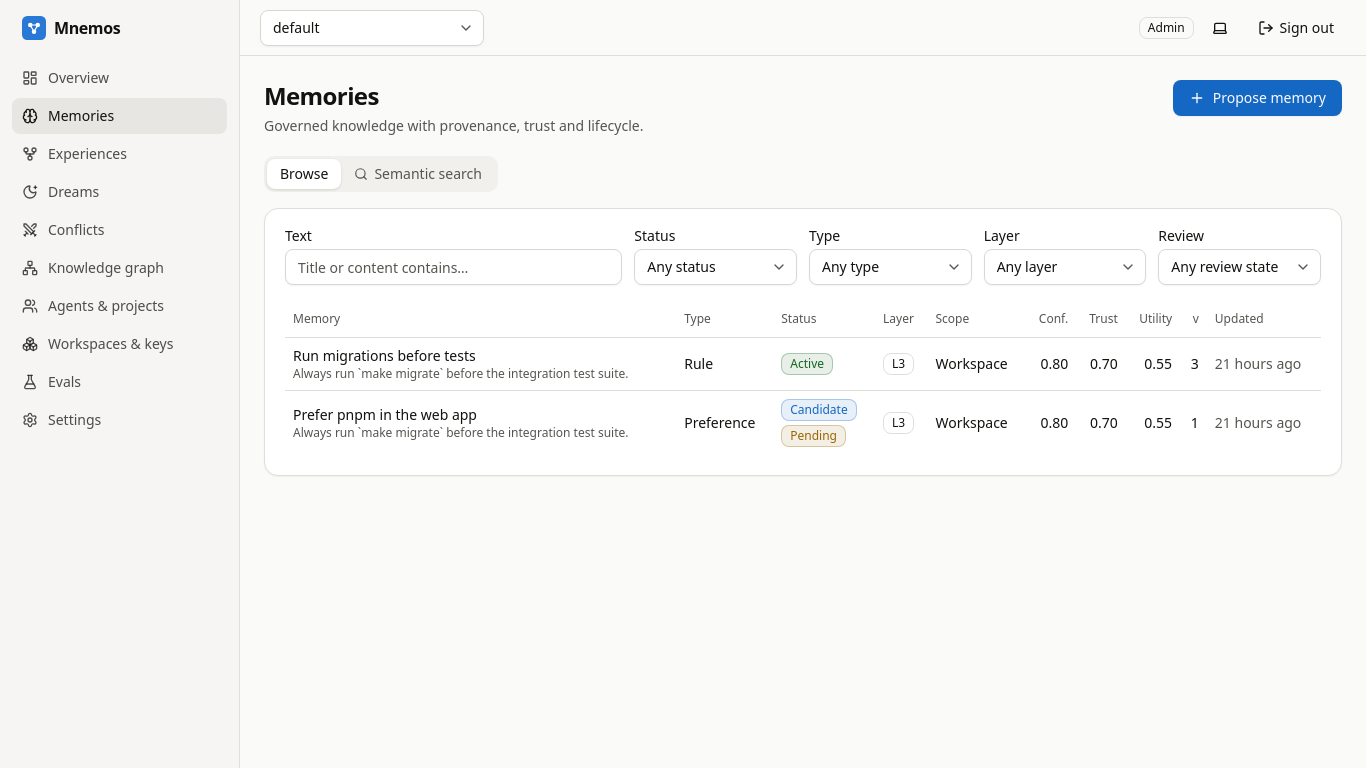
Test: Memories list › filters by status and type via query parameters (kept in the URL)
Select "Candidate" in the dropdown with test id "memory-filter-status" at [716, 267], box [634, 249, 797, 285]
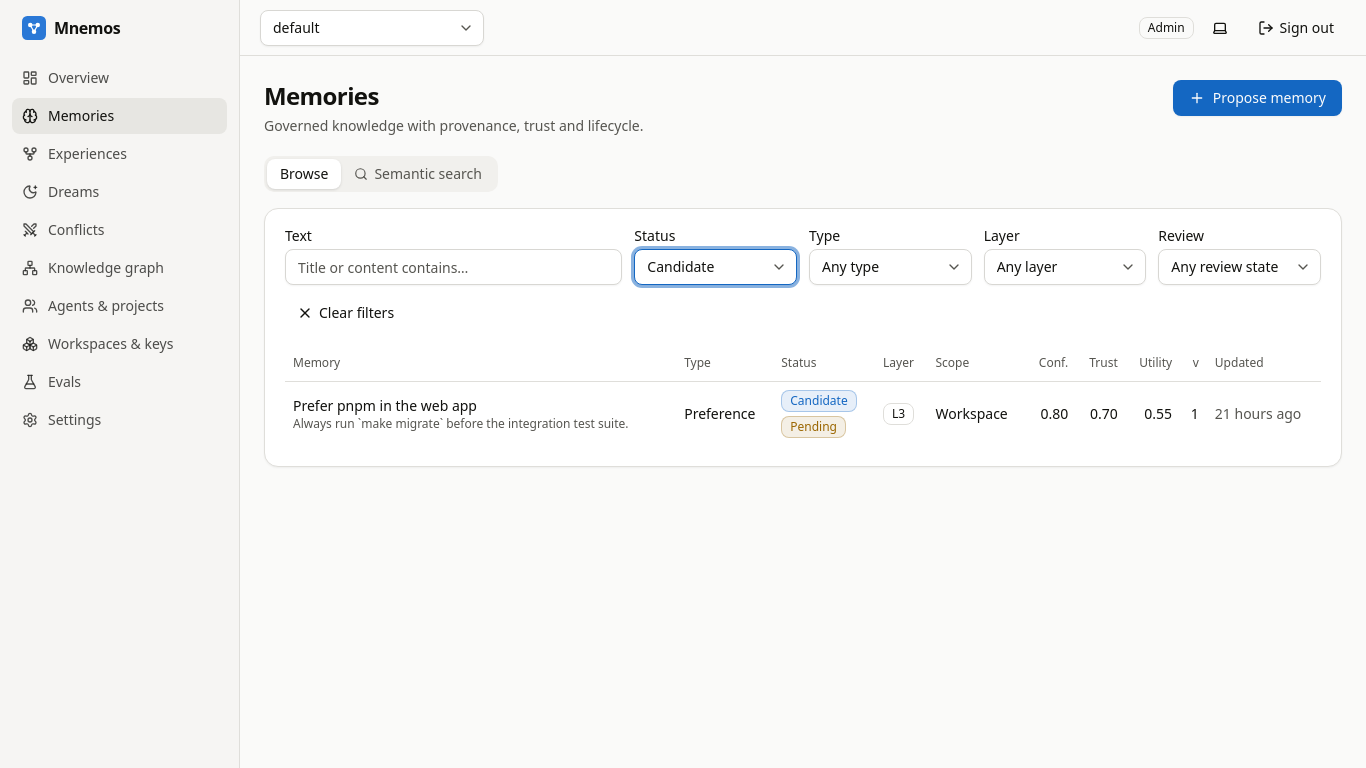
Now the number of rows with test id "memory-row" is 1, box [285, 381, 1321, 446]
Select "Rule" in the dropdown with test id "memory-filter-type" at [890, 267], box [809, 249, 972, 285]
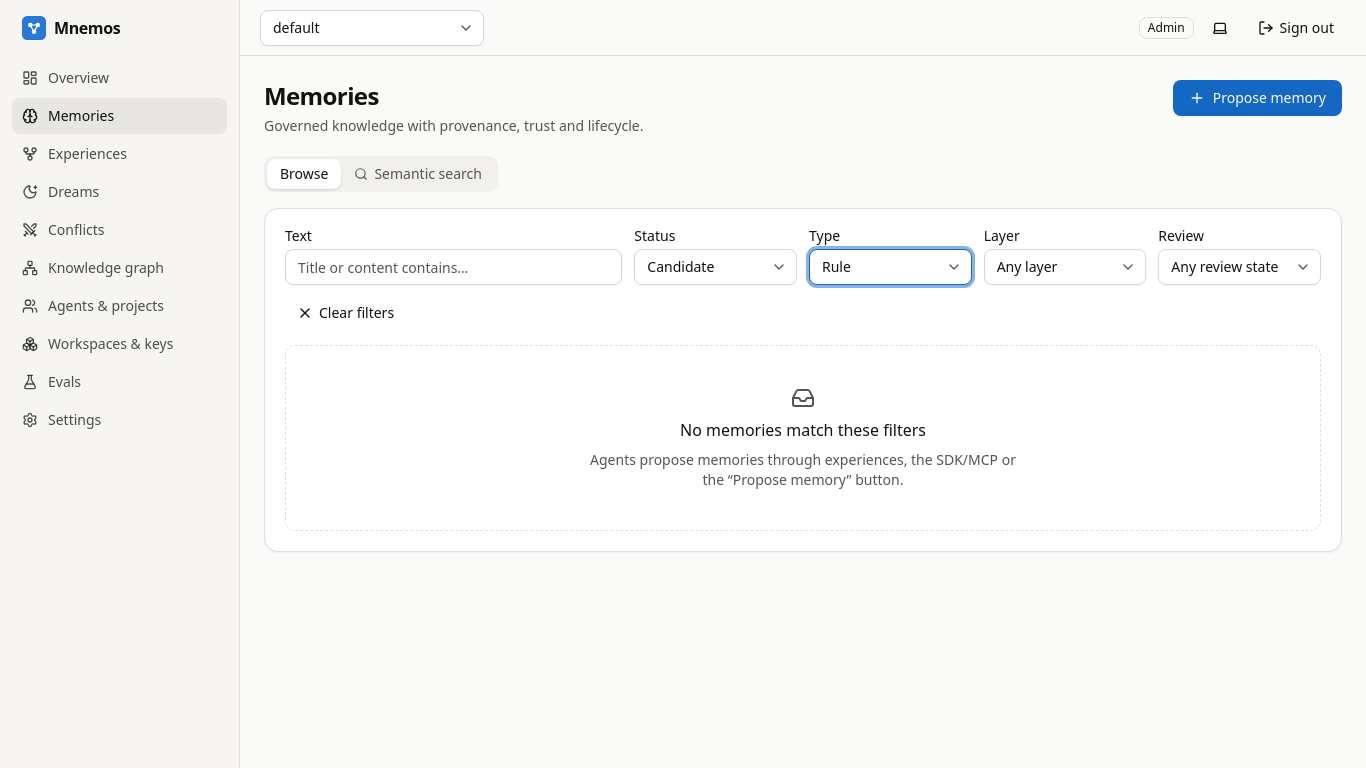
Now the element with test id "empty-state" shows "No memories match", box [680, 419, 926, 441]
Click the button with test id "memory-filter-clear".
click(346, 313)  # box [285, 297, 406, 329]
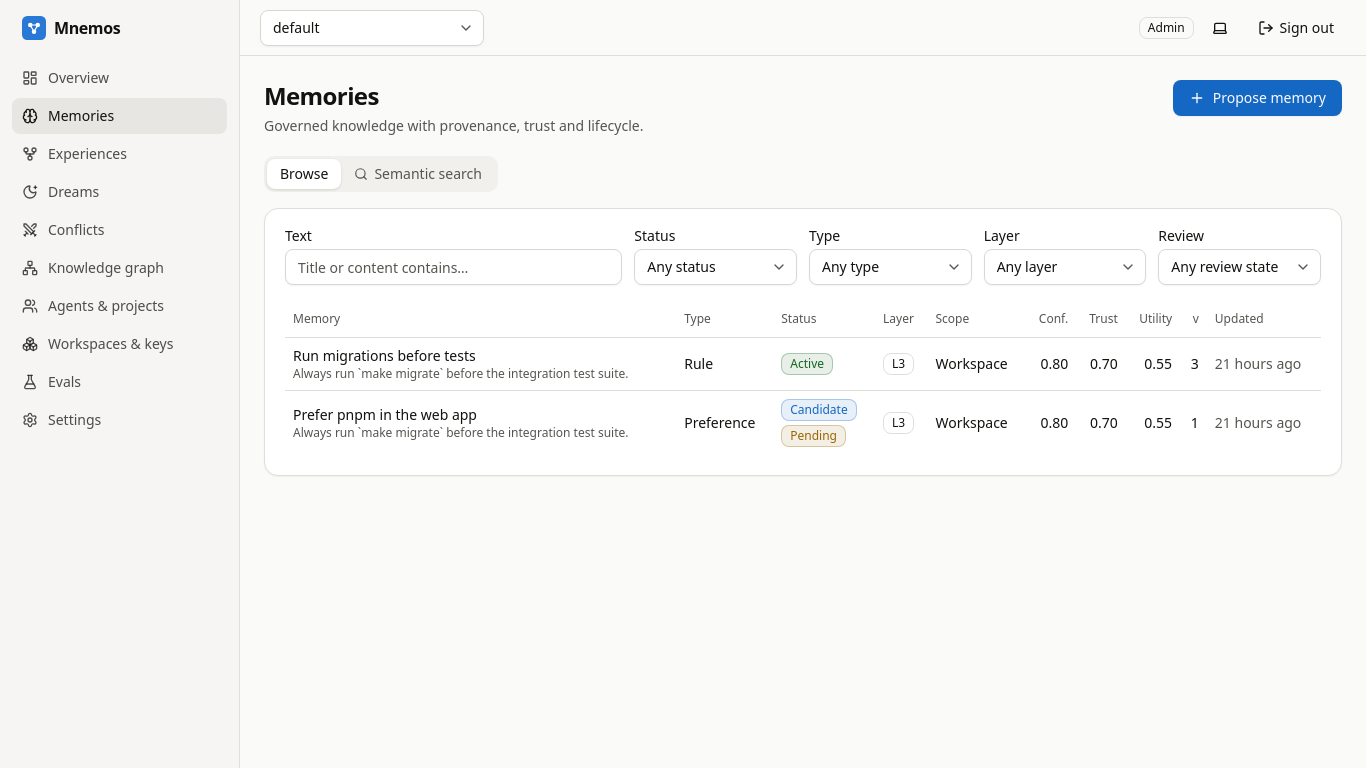
Now the number of rows with test id "memory-row" is 2, box [285, 337, 1321, 390]; [285, 390, 1321, 454]
